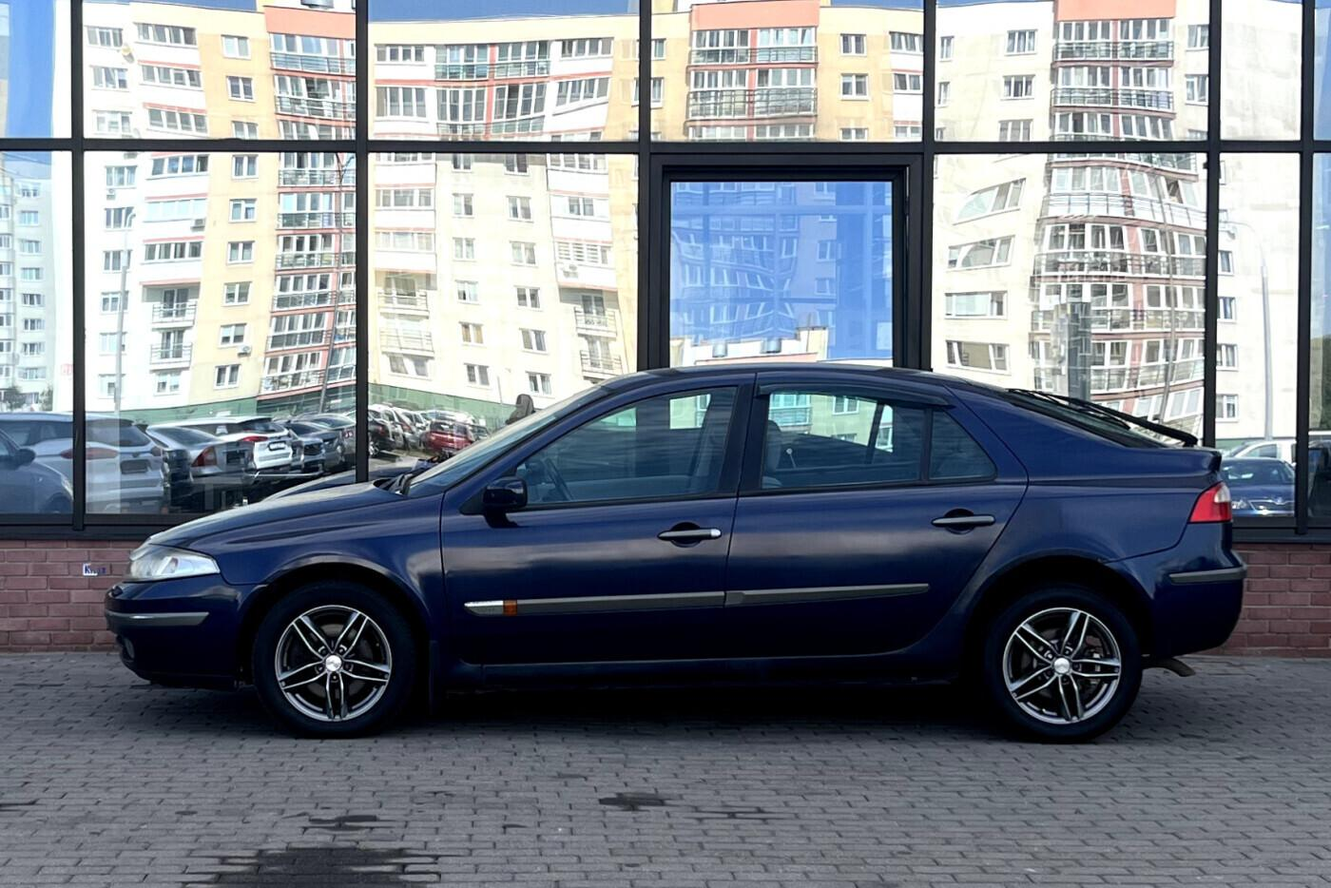Laguna_2001-2005: (105, 362, 1246, 742)
